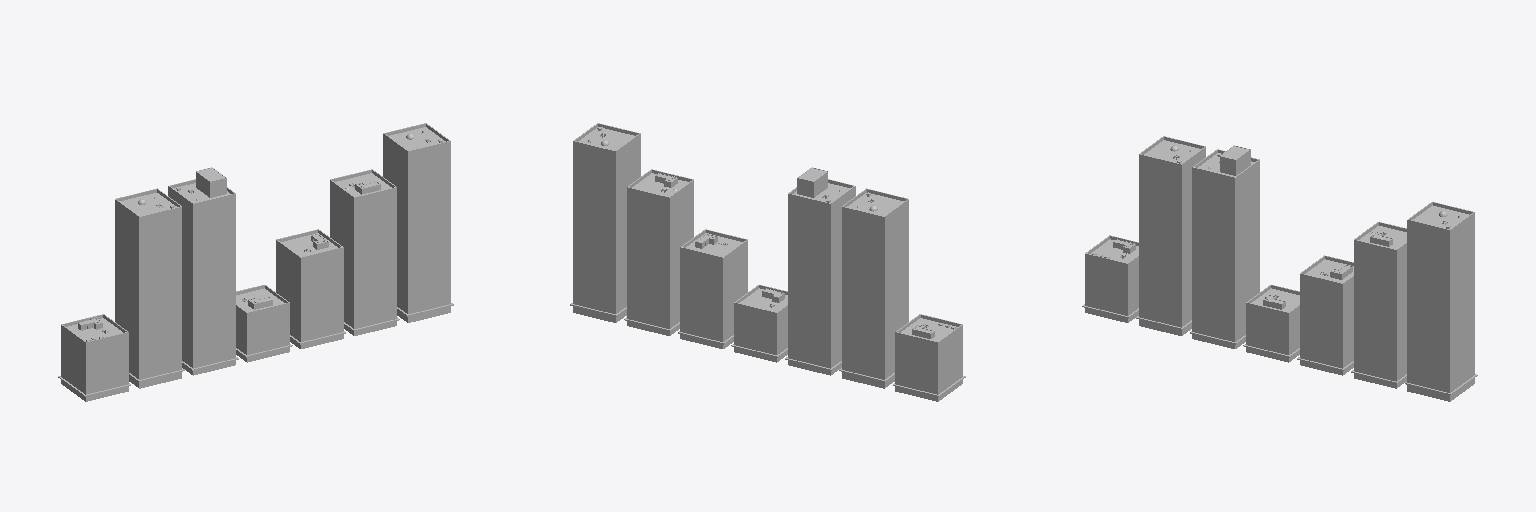
File: budynki.obj
3 views of the same model, side by side, from view 1: azimuth 30°, elevation 25°; view 2: azimuth 150°, elevation 25°; view 3: azimuth 330°, elevation 25° (orthographic).
Parts seen in each view (by area): view 1: Cube.164_Cube.007, Cube.087_Cube.007, Cube.065_Cube.002, HighRise2.009_Cube.011, Residential2.002_Cube.013, Cube.002_Cube.025, Cube.237_Cube.024; view 2: Cube.164_Cube.007, Cube.087_Cube.007, Cube.065_Cube.002, HighRise2.009_Cube.011, Residential2.002_Cube.013, Cube.002_Cube.025, Cube.237_Cube.024; view 3: Cube.087_Cube.007, Cube.065_Cube.002, Cube.164_Cube.007, HighRise2.009_Cube.011, Residential2.002_Cube.013, Cube.002_Cube.025, Cube.237_Cube.024.
Part boxes in pixels (x1,y1,x2,y2): Cube.164_Cube.007: (115, 188, 184, 388); Cube.087_Cube.007: (383, 123, 453, 322); Cube.065_Cube.002: (168, 167, 238, 375); HighRise2.009_Cube.011: (330, 169, 399, 335); Residential2.002_Cube.013: (276, 229, 345, 348); Cube.002_Cube.025: (58, 314, 130, 401); Cube.237_Cube.024: (236, 285, 292, 362); Cube.164_Cube.007: (839, 188, 908, 388); Cube.087_Cube.007: (570, 123, 640, 322); Cube.065_Cube.002: (785, 167, 855, 375); HighRise2.009_Cube.011: (624, 169, 693, 335); Residential2.002_Cube.013: (678, 229, 747, 348); Cube.002_Cube.025: (893, 314, 965, 401); Cube.237_Cube.024: (731, 285, 787, 362); Cube.087_Cube.007: (1405, 202, 1477, 401); Cube.065_Cube.002: (1190, 145, 1259, 348); Cube.164_Cube.007: (1136, 136, 1205, 335); HighRise2.009_Cube.011: (1351, 222, 1406, 388); Residential2.002_Cube.013: (1297, 255, 1353, 375); Cube.002_Cube.025: (1082, 235, 1138, 322); Cube.237_Cube.024: (1243, 285, 1299, 362).
Bounding box in the file's own units: 3.43 × 1.64 × 0.4325.